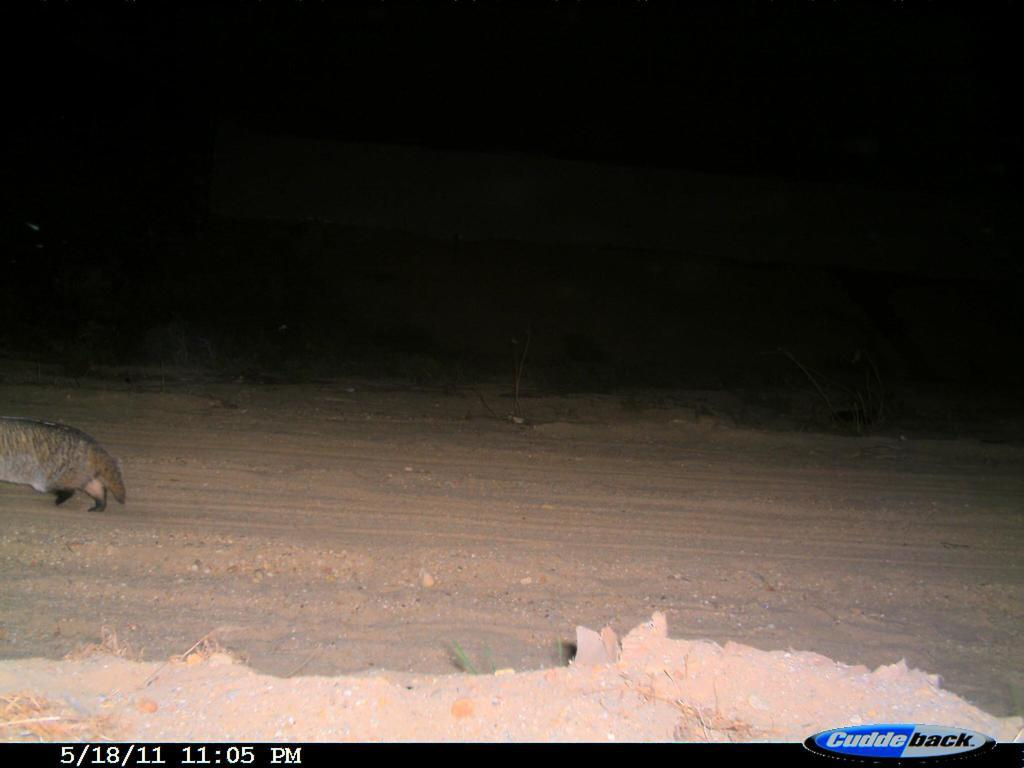badger: (3, 409, 139, 521)
